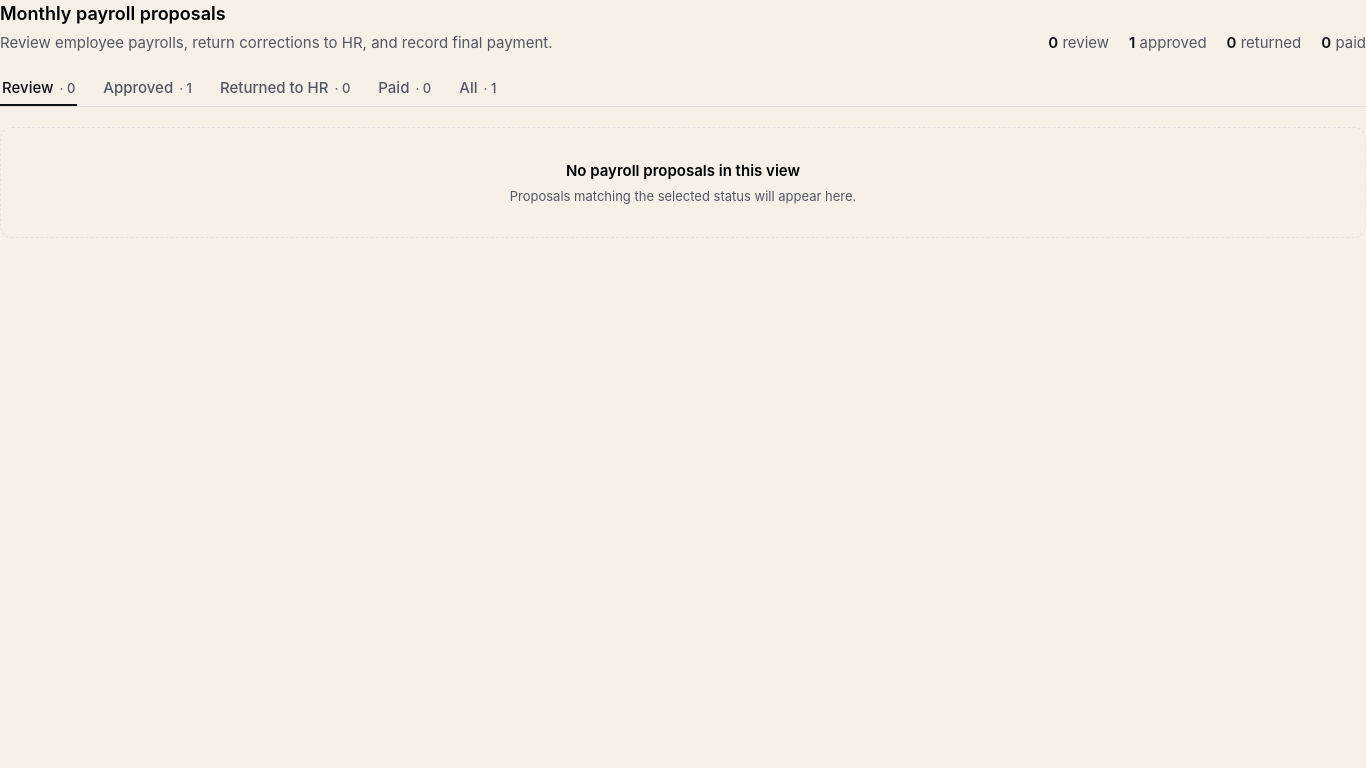
Test: FinancePayrollReview › clears the payment-reference error while keeping the optional note empty
Click the tab "Approved · 1". click: coordinates (148, 88)
box: [101, 70, 194, 106]
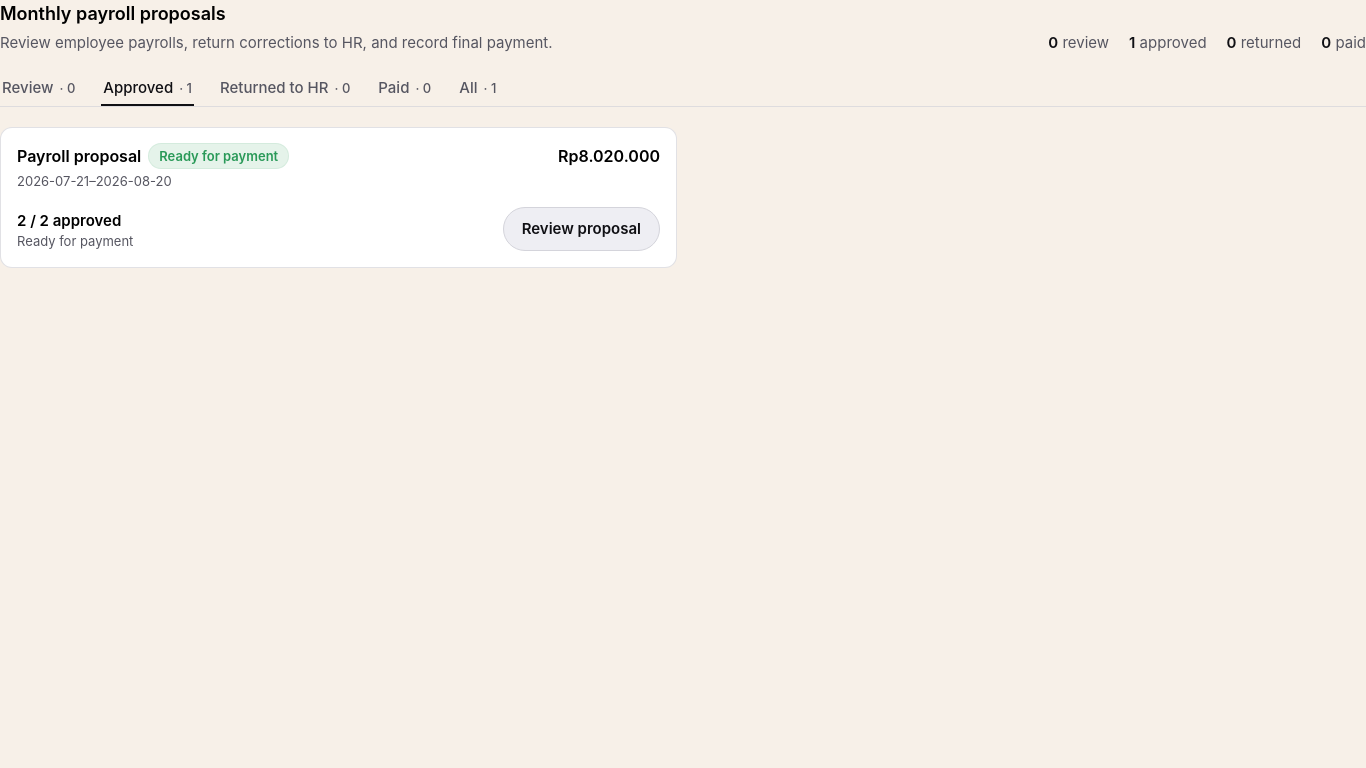
Click the button "Review proposal". click: coordinates (581, 229)
box: [503, 207, 660, 251]
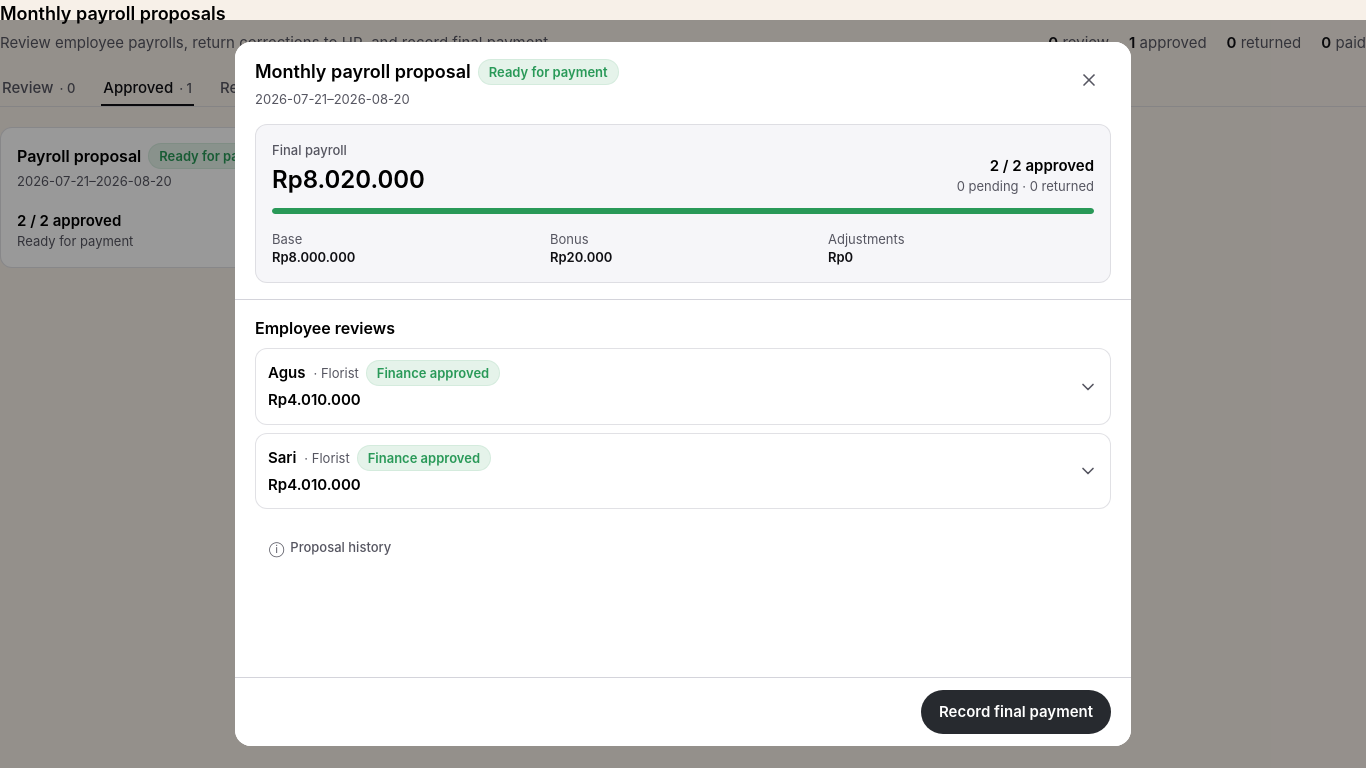
Click the button "Record final payment". click: coordinates (1016, 712)
box: [921, 690, 1111, 734]
(page scrolled)
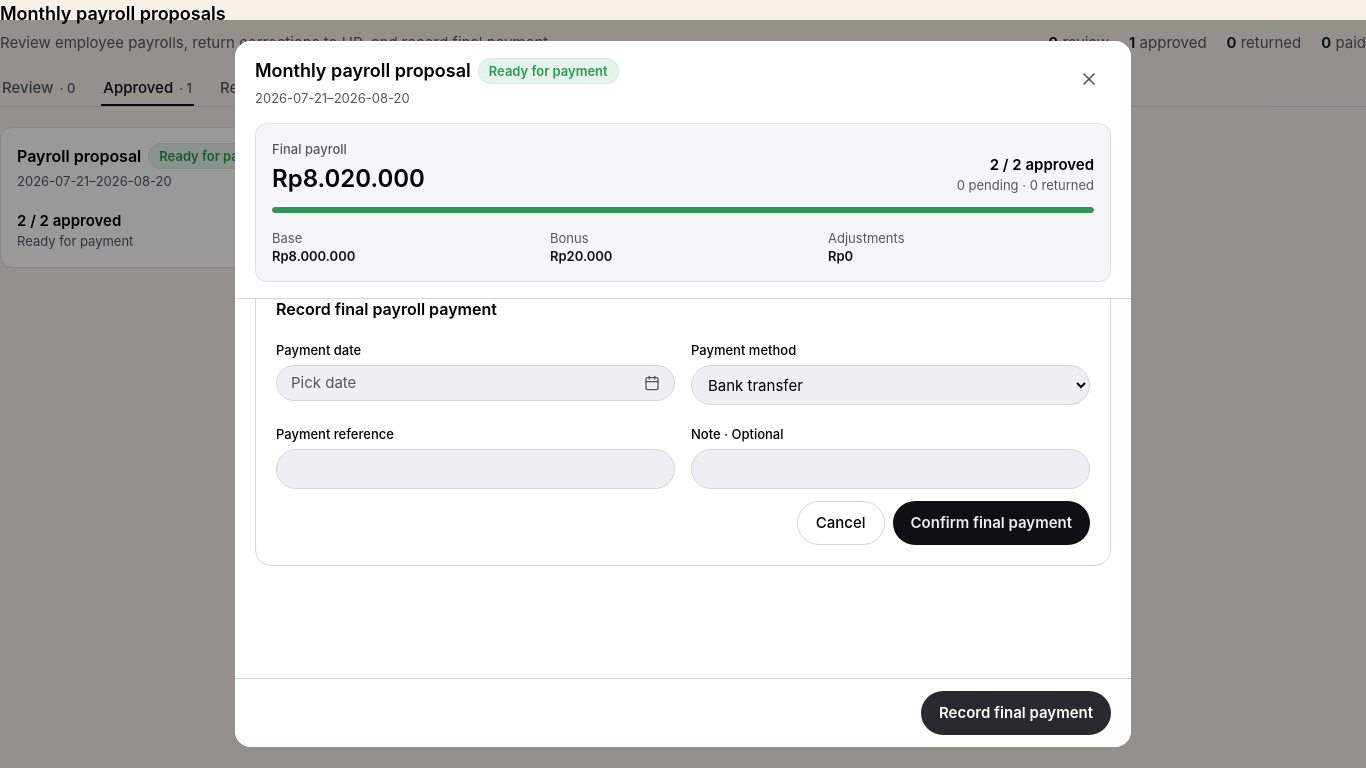
expect the text "Note · Optional" is shown: met, box [691, 426, 784, 442]
Click the button "Confirm final payment". click: coordinates (991, 523)
box: [892, 501, 1090, 545]
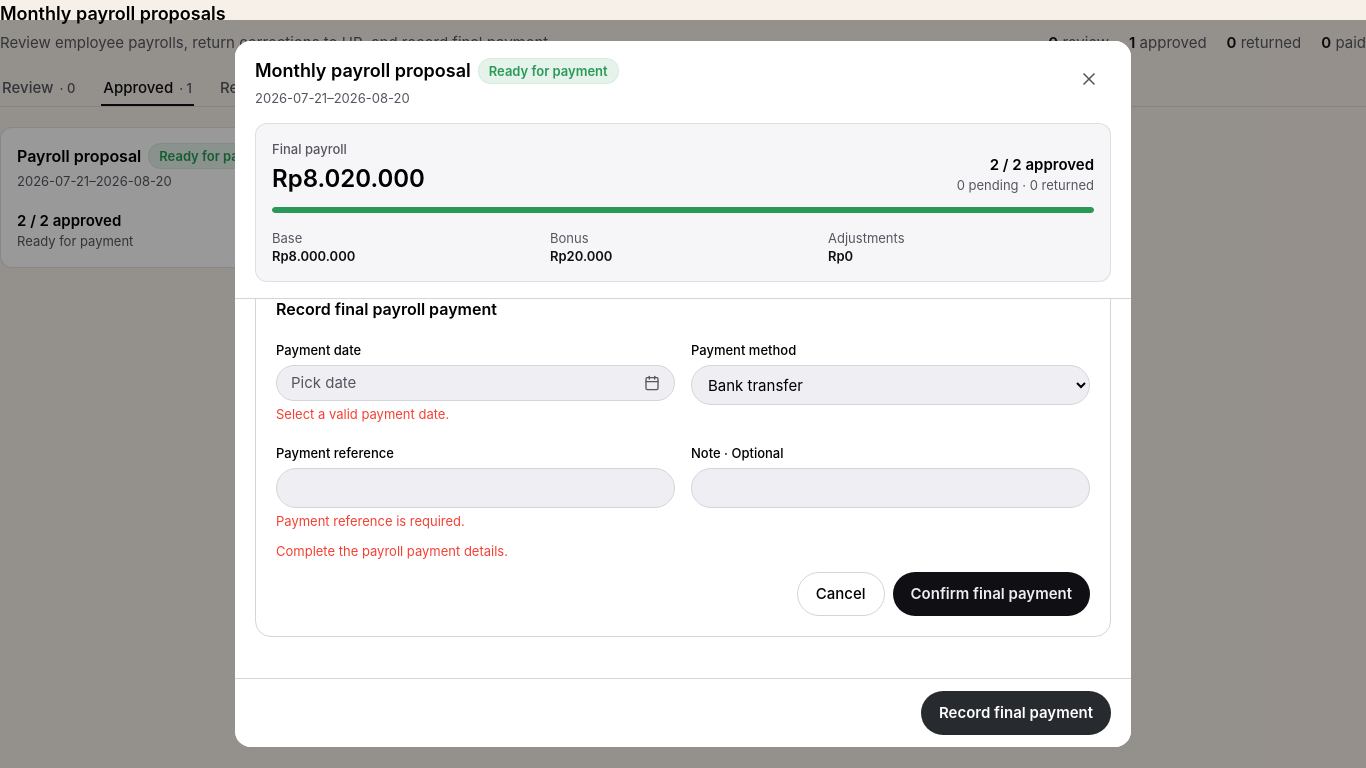
expect the text "Payment reference is required." is shown: met, box [276, 513, 465, 529]
Type "PAY-2026-07" into the field labelled "Payment reference Payment reference is required.". click: coordinates (476, 488)
box: [276, 468, 675, 508]
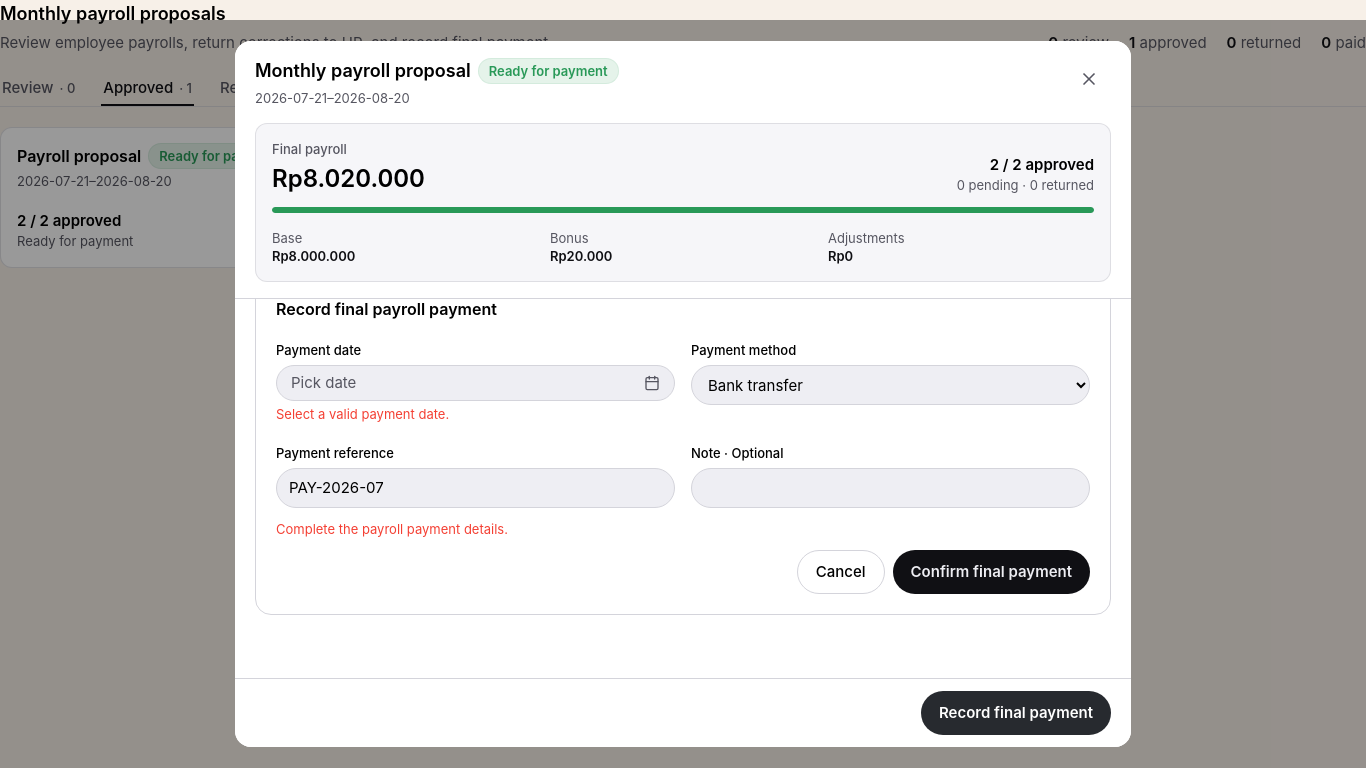
expect the text "Payment reference is required." is gone: met
